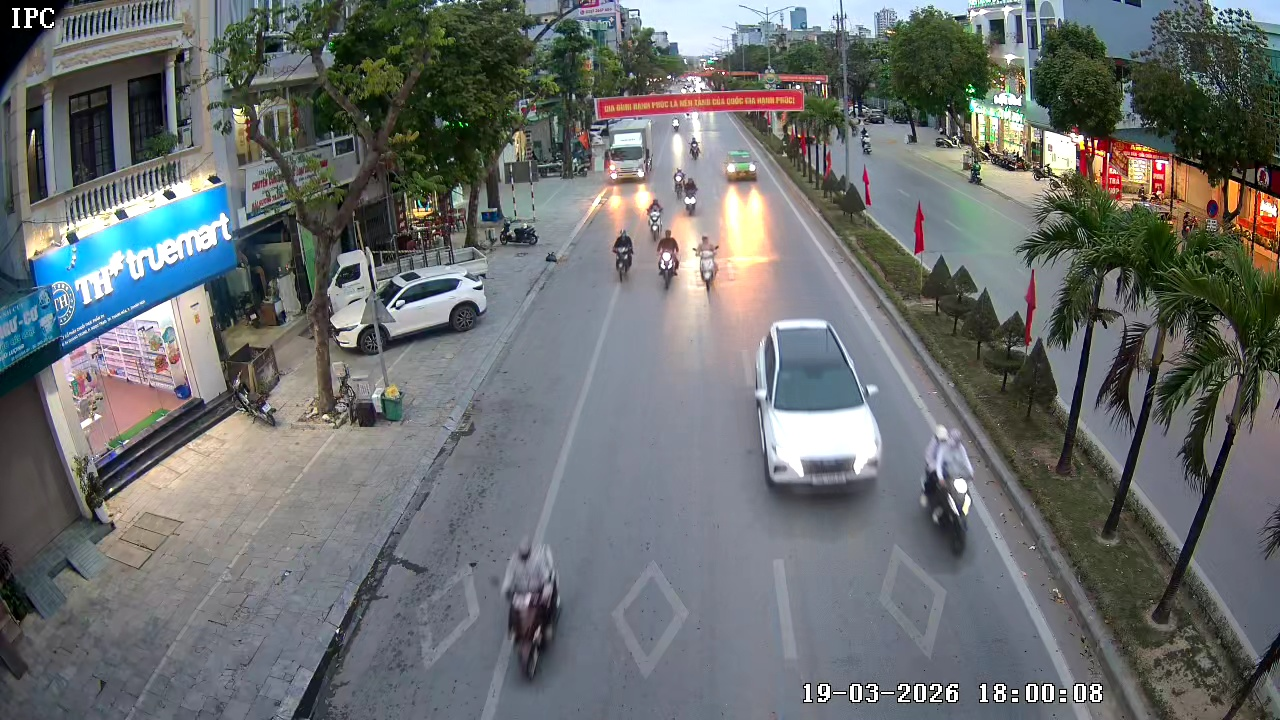car: (750, 317, 884, 490), (331, 264, 488, 352), (723, 147, 758, 184)
motorbike: (497, 535, 565, 679), (918, 423, 978, 556), (655, 228, 682, 289), (693, 230, 720, 289), (611, 228, 636, 284), (644, 191, 665, 242), (682, 170, 699, 215), (673, 166, 693, 204), (688, 129, 703, 162)
truck: (605, 114, 657, 180)
